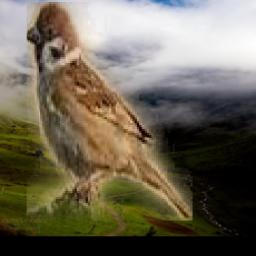Sparrow: (26, 2, 191, 221)
